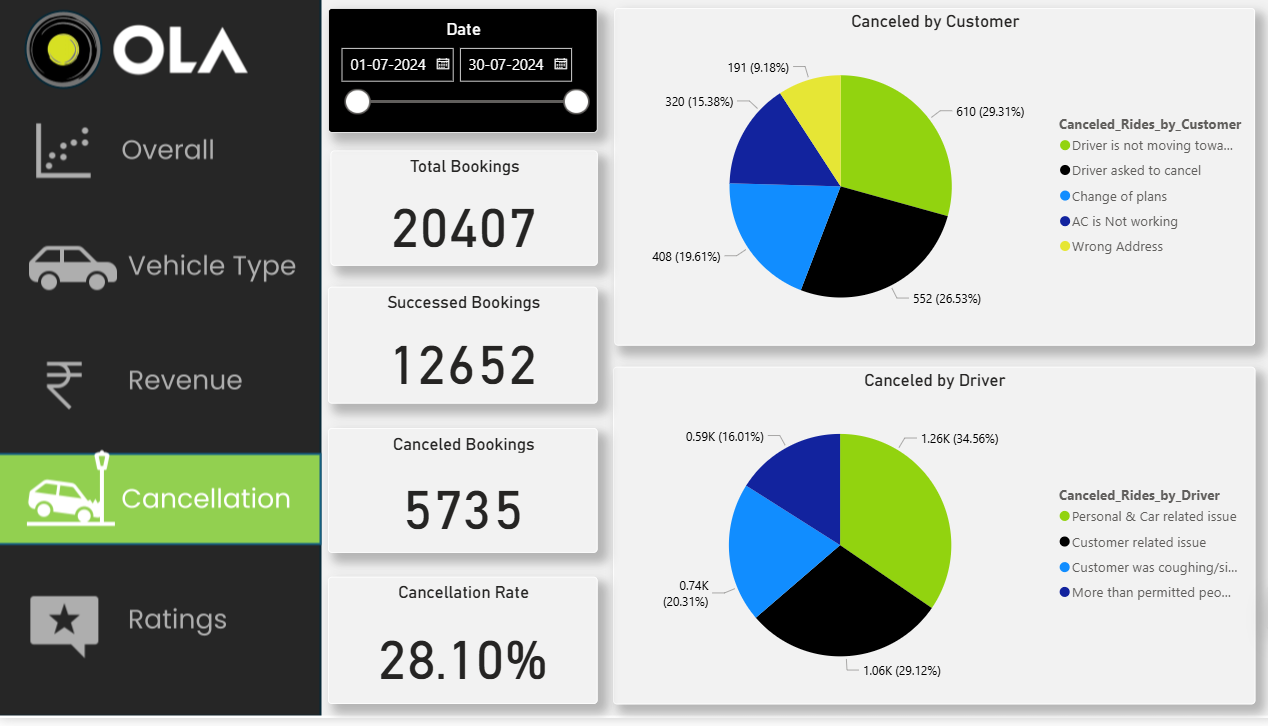

Layout of this report page (visuals, bound fields, positions):
{"tool":"powerbi","page":{"name":"cancellation","canvas":[1280,720],"ordinal":3},"visuals":[{"type":"actionButton","box":[0,222,322.1,92.9],"z":0},{"type":"actionButton","box":[1.2,337.8,322.1,92.9],"z":1000},{"type":"actionButton","box":[2.4,579.1,320.9,88.1],"z":2000},{"type":"actionButton","box":[0,106.2,320.9,94.1],"z":3000},{"type":"pieChart","title":"Canceled by Customer","fields":{"Category":["July.Canceled_Rides_by_Customer"],"Y":["CountNonNull(July.Canceled_Rides_by_Customer)"]},"box":[616.1,9.6,640.8,337.6],"z":4000},{"type":"pieChart","title":"Canceled by Driver","fields":{"Category":["July.Canceled_Rides_by_Driver"],"Y":["CountNonNull(July.Canceled_Rides_by_Driver)"]},"box":[614.8,369.1,642.2,337.6],"z":5000},{"type":"card","title":"Total Bookings","fields":{"Values":["CountNonNull(July.Booking_ID)"]},"box":[332.8,152.9,266.9,115.4],"z":6000},{"type":"slicer","title":"Date","fields":{"Values":["July.Date"]},"box":[329.8,10.5,269.9,124.4],"z":7000},{"type":"card","title":"Successed Bookings","fields":{"Values":["CountNonNull(July.Booking_ID)"]},"box":[329.8,289.3,269.9,116.9],"z":8000},{"type":"card","title":"Canceled Bookings","fields":{"Values":["CountNonNull(July.Booking_ID)"]},"box":[329.8,430.3,269.9,124.4],"z":9000},{"type":"card","title":"Cancellation Rate","fields":{"Values":["July.CanceledPercentage"]},"box":[329.8,578.7,269.9,127.4],"z":9001}]}

Visuals, with their boxes in screenshot pixels (x1, y1, x2, y2), scaled from the page's 1280x720 canvas onto the 1268x726 screenshot:
actionButton: [x1=0, y1=224, x2=319, y2=318]
actionButton: [x1=1, y1=341, x2=320, y2=434]
actionButton: [x1=2, y1=584, x2=320, y2=673]
actionButton: [x1=0, y1=107, x2=318, y2=202]
"Canceled by Customer" pieChart: [x1=610, y1=10, x2=1245, y2=350]
"Canceled by Driver" pieChart: [x1=609, y1=372, x2=1245, y2=713]
"Total Bookings" card: [x1=330, y1=154, x2=594, y2=271]
"Date" slicer: [x1=327, y1=11, x2=594, y2=136]
"Successed Bookings" card: [x1=327, y1=292, x2=594, y2=410]
"Canceled Bookings" card: [x1=327, y1=434, x2=594, y2=559]
"Cancellation Rate" card: [x1=327, y1=584, x2=594, y2=712]
